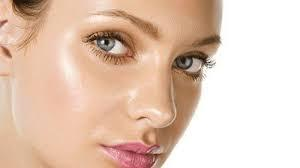Oily-Skin: (50, 57, 98, 131), (150, 61, 171, 116)
